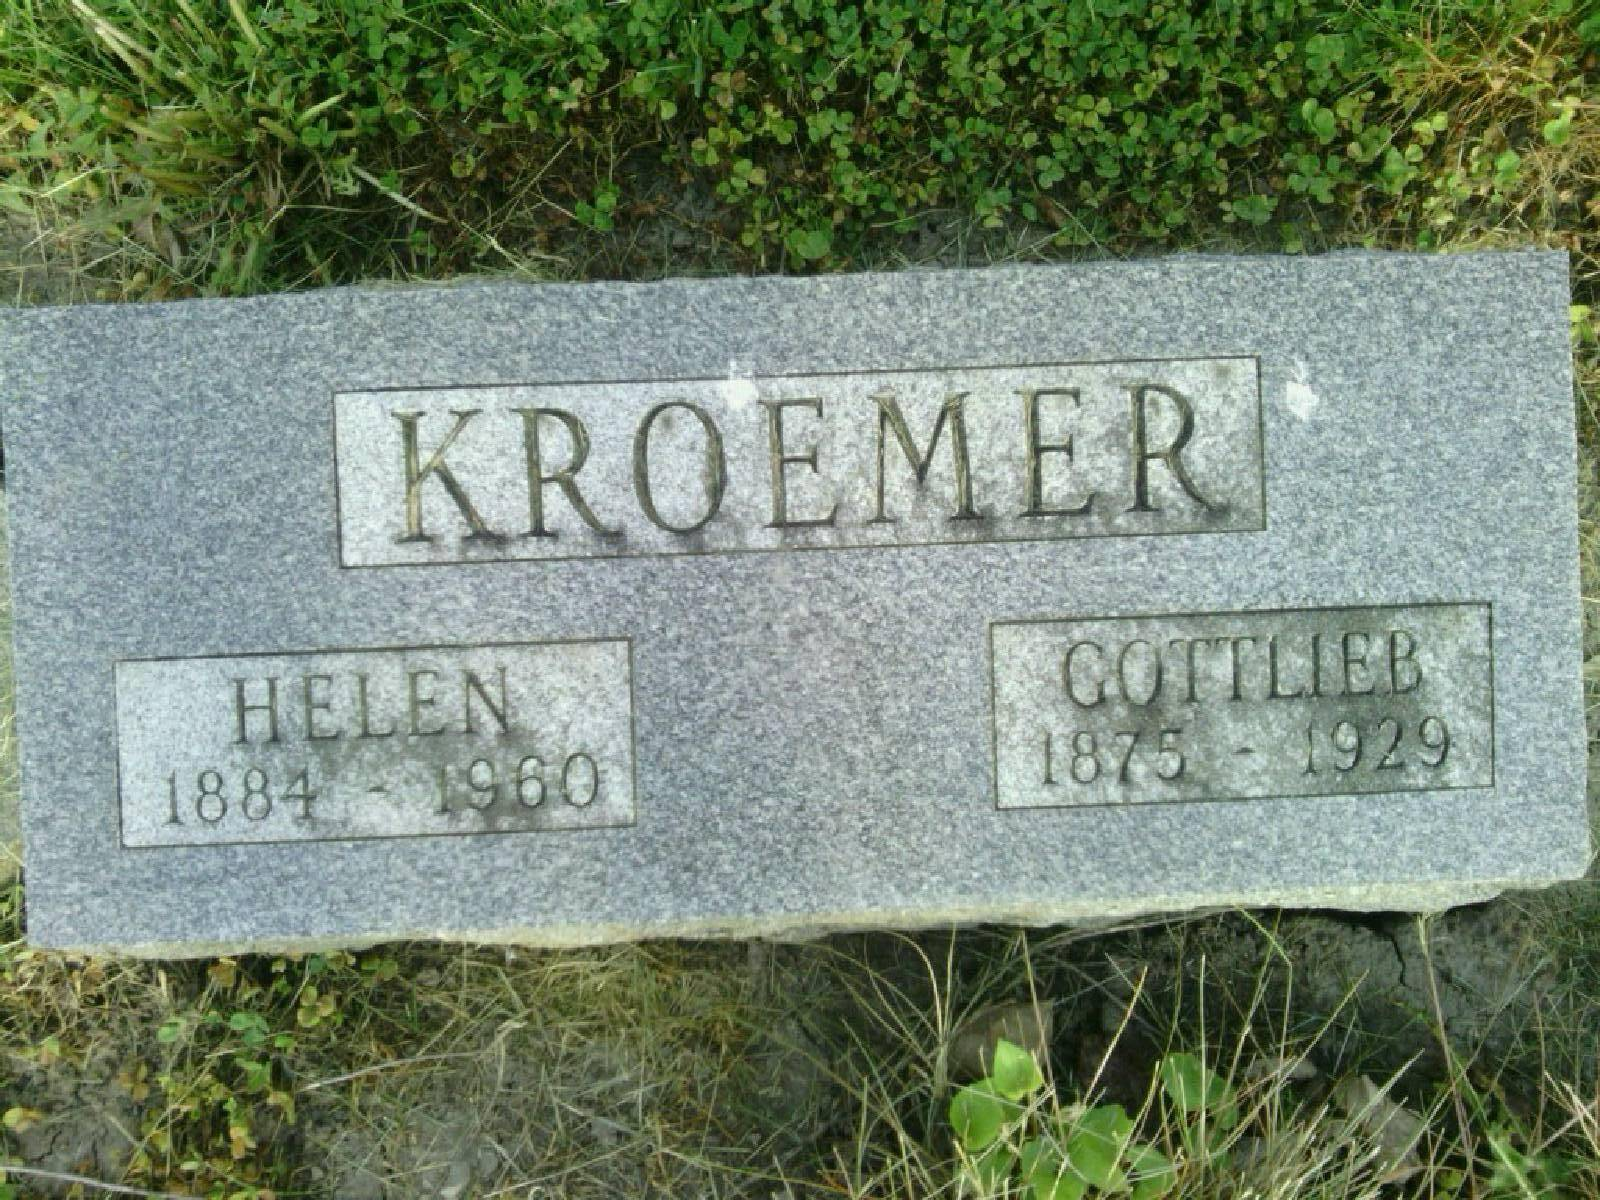flat: (0, 250, 1591, 952)
